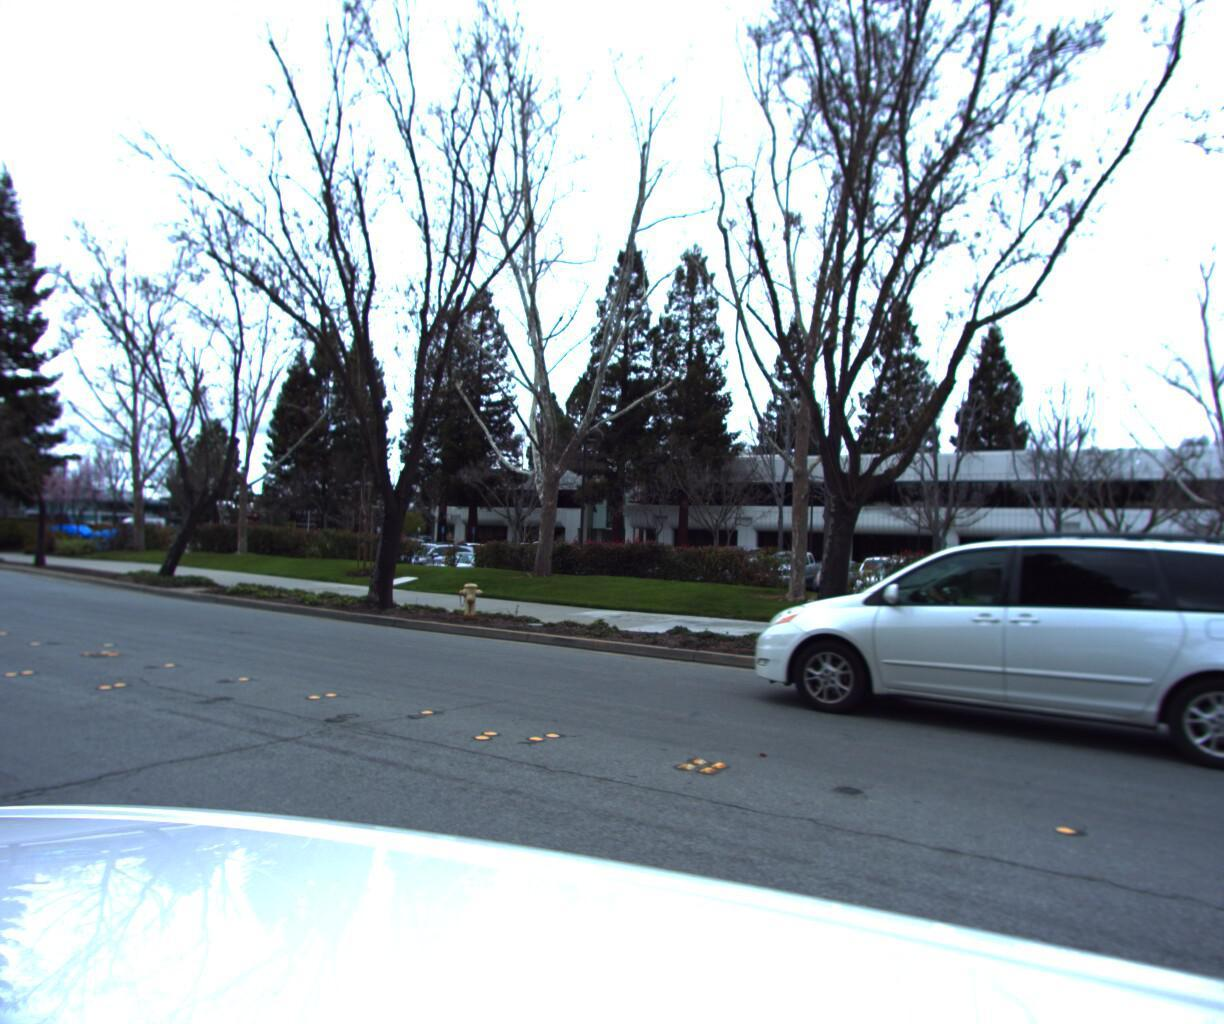car: (753, 523, 1224, 806)
